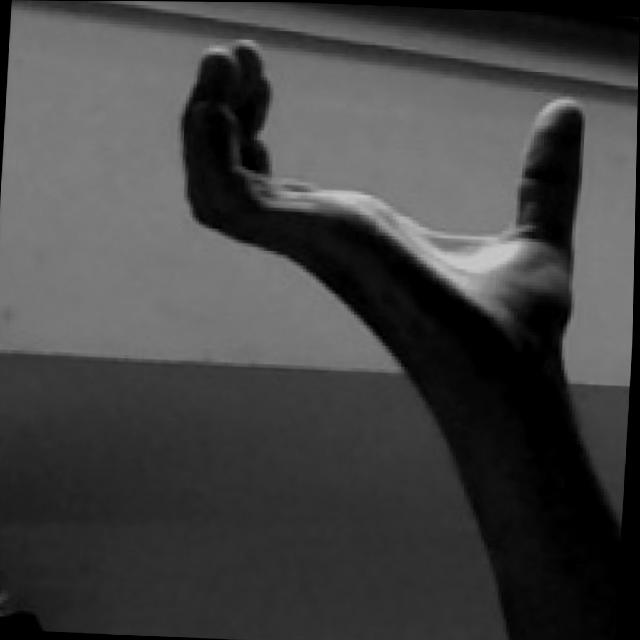space: (161, 25, 596, 384)
